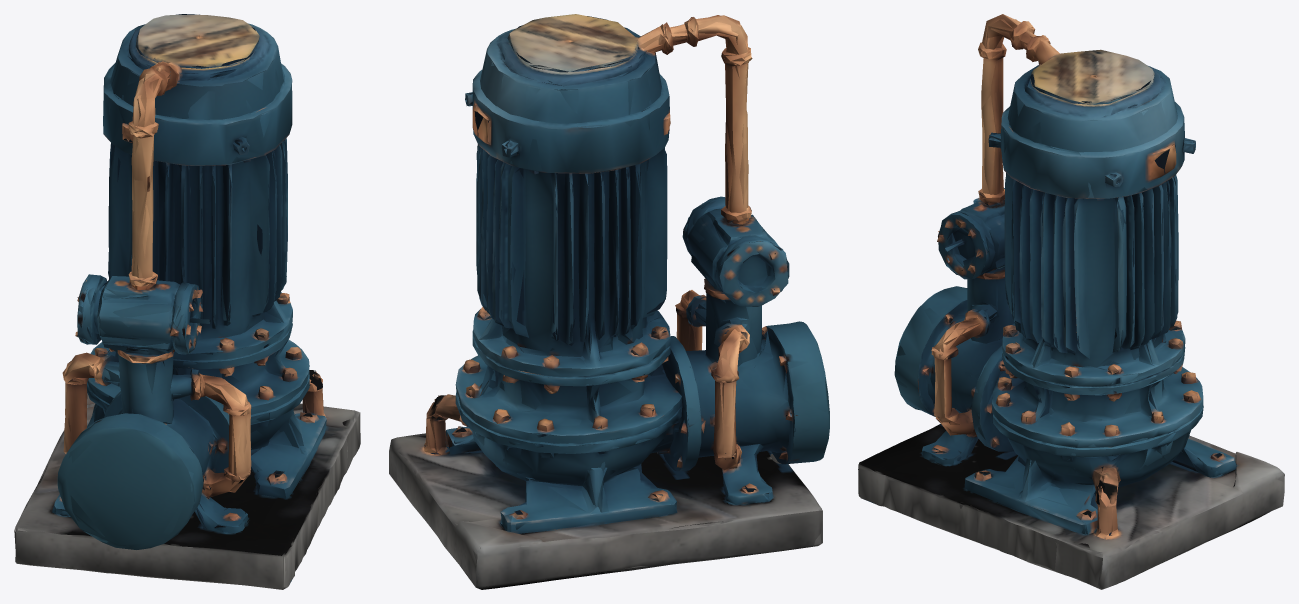
The model's file is stylized_industrial_water_pump_station.glb.
The picture shows the model from 3 angles, left to right: view 1: azimuth 30°, elevation 25°; view 2: azimuth 150°, elevation 25°; view 3: azimuth 270°, elevation 25°; orthographic projection. The views are drawn at different scales.
Visible parts, largest first — view 1: stylized_industrial_water_pump_station; view 2: stylized_industrial_water_pump_station; view 3: stylized_industrial_water_pump_station.
Part boxes in pixels (x1,y1,x2,y2): stylized_industrial_water_pump_station: (14,14,360,589); stylized_industrial_water_pump_station: (389,14,829,589); stylized_industrial_water_pump_station: (858,14,1284,589).
Size of the model in its own units: 1.69 by 2 by 1.7.
Materials: 1 (1 with a texture image).
